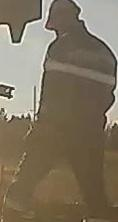helmet: (44, 0, 82, 31)
vest: (40, 35, 115, 142)
